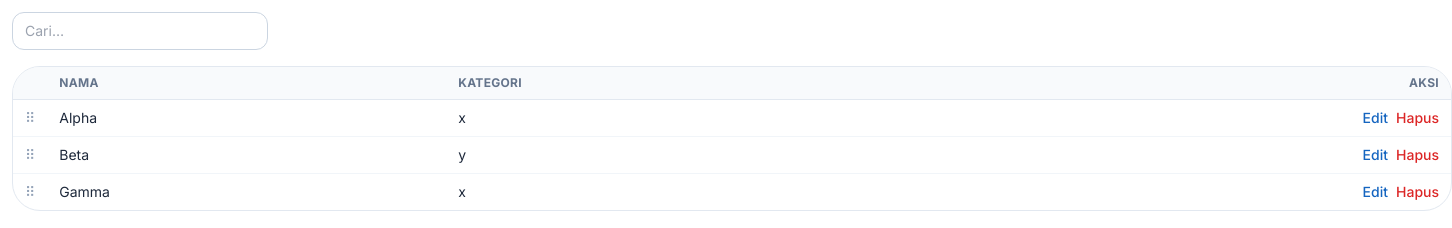
EntityTable › filters rows by search text
Type "Bet" into the search field with placeholder "Cari…" at (140, 31), box [12,12,268,50]
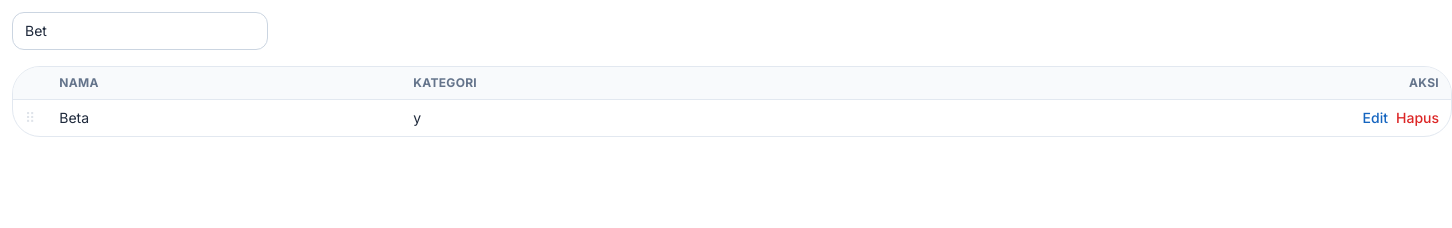
Expected: the text "Beta" is shown, [47,100,401,136]
Now the text "Alpha" is gone
